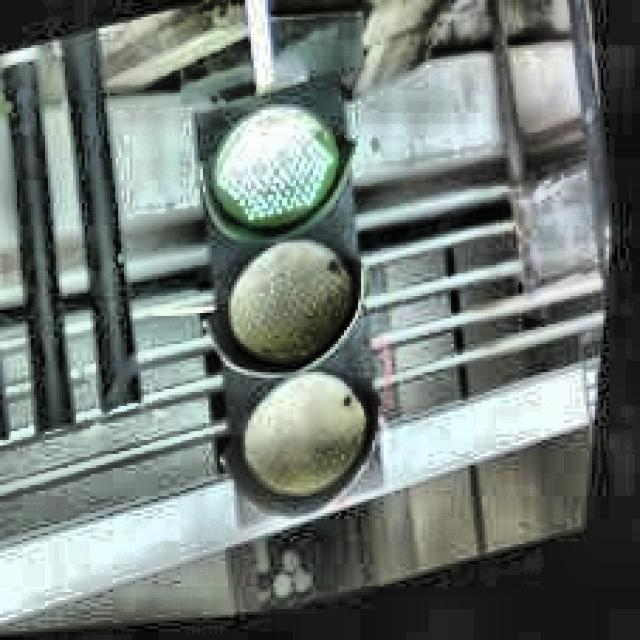green: (156, 72, 430, 543)
